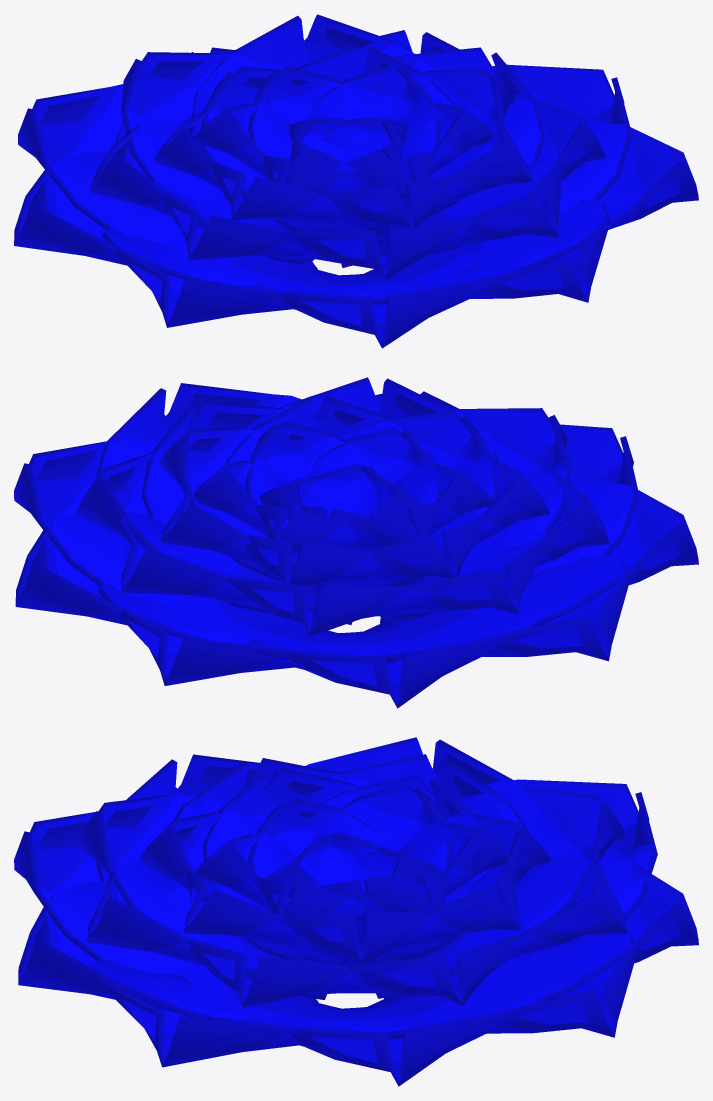
Rendered from garden-rose-bloom-head-3-0000ff.glb.
3 renders of one model, top to bottom at view 1: azimuth 30°, elevation 25°; view 2: azimuth 150°, elevation 25°; view 3: azimuth 270°, elevation 25°, orthographic. The views are drawn at different scales.
Visible parts, largest first — view 1: rose-bloom-head-3-0000ff; view 2: rose-bloom-head-3-0000ff; view 3: rose-bloom-head-3-0000ff.
Boxes of the visible parts, left/top/right/bottom form: rose-bloom-head-3-0000ff: left=14, top=14, right=698, bottom=348; rose-bloom-head-3-0000ff: left=14, top=377, right=698, bottom=708; rose-bloom-head-3-0000ff: left=14, top=737, right=698, bottom=1086.
Size of the model in its own units: 0.1594 by 0.0402 by 0.1493.
